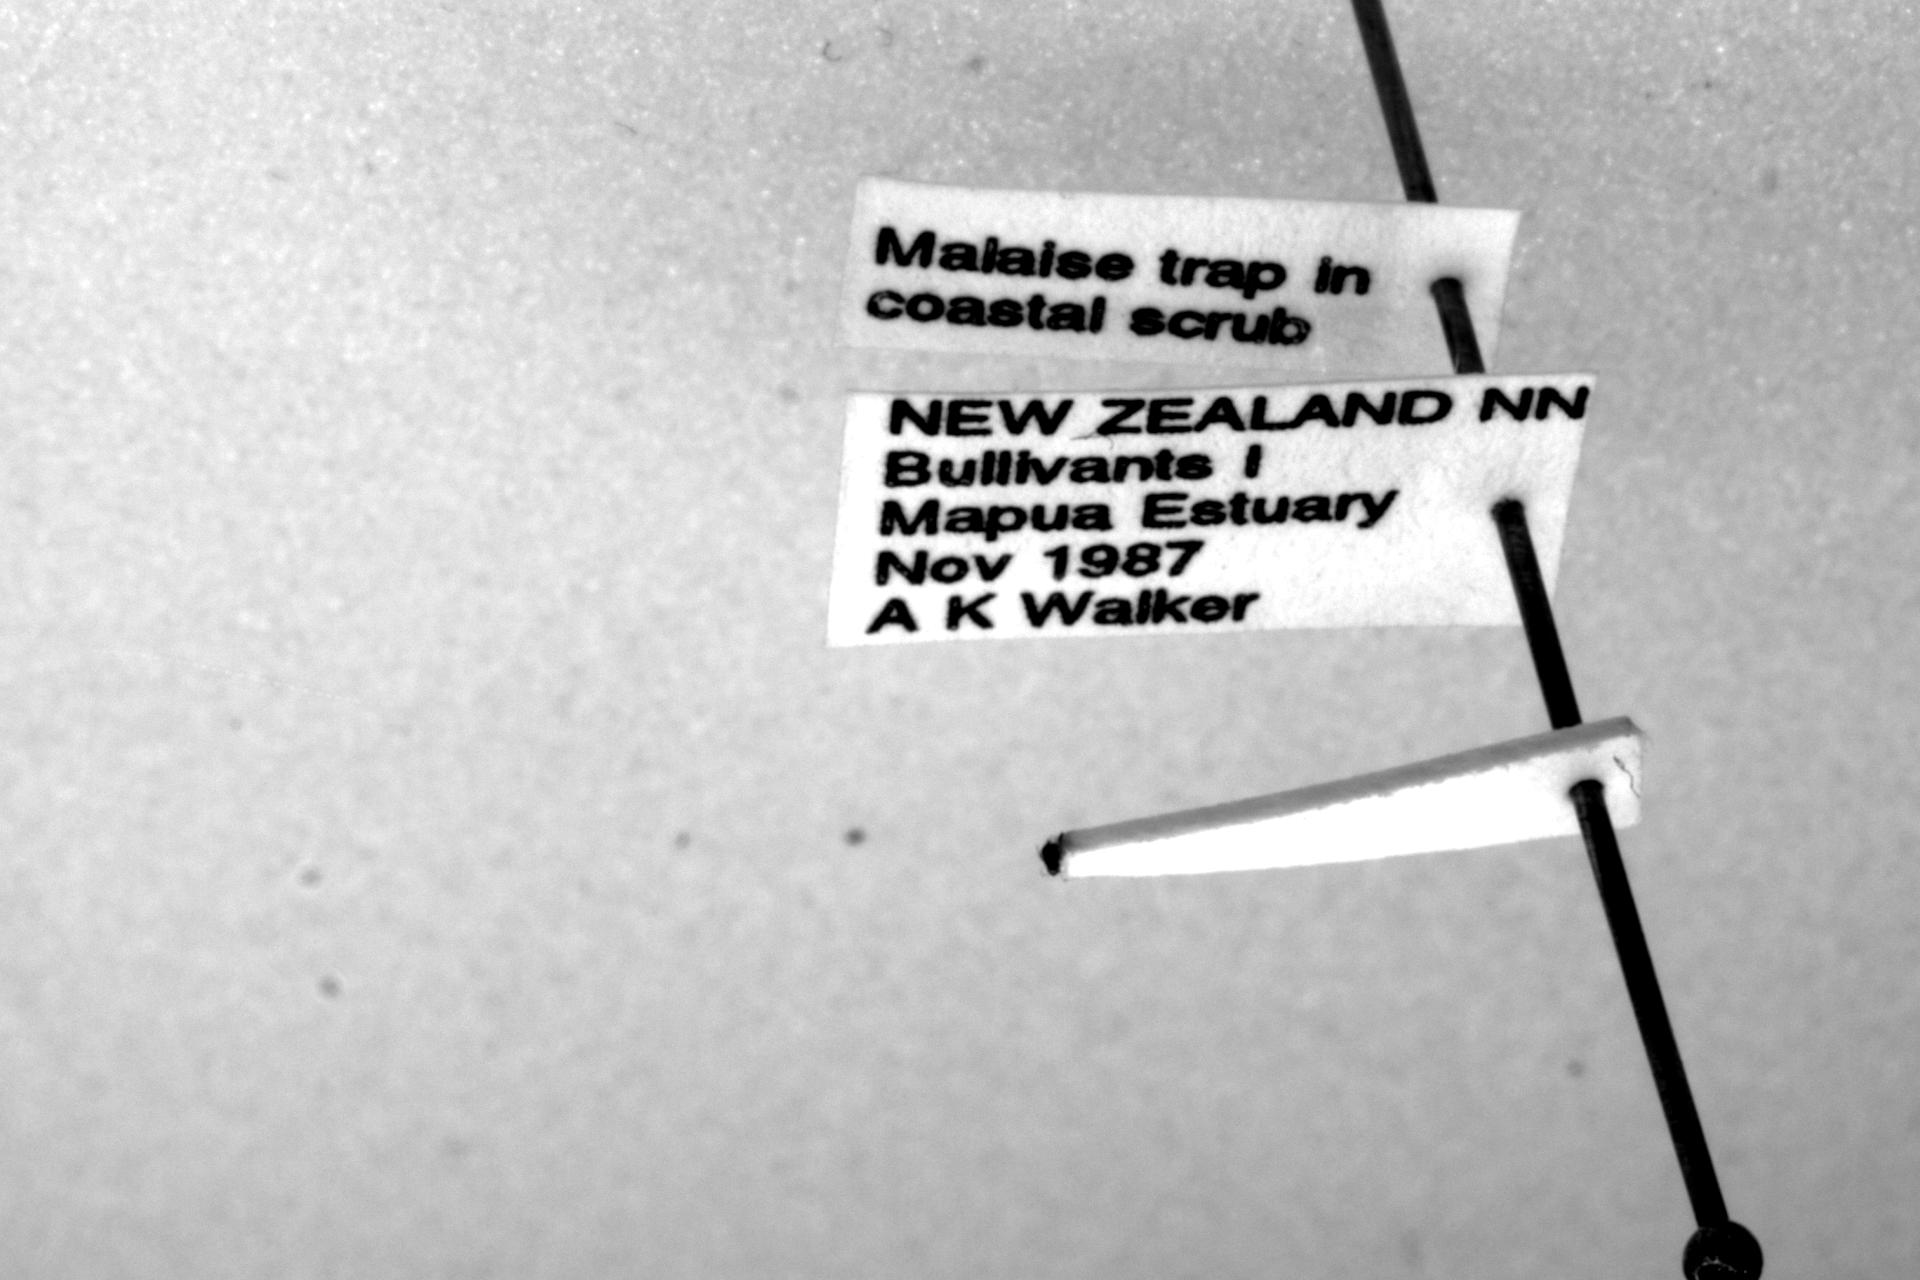typed_label: (829, 374, 1594, 646), (836, 176, 1519, 374)
